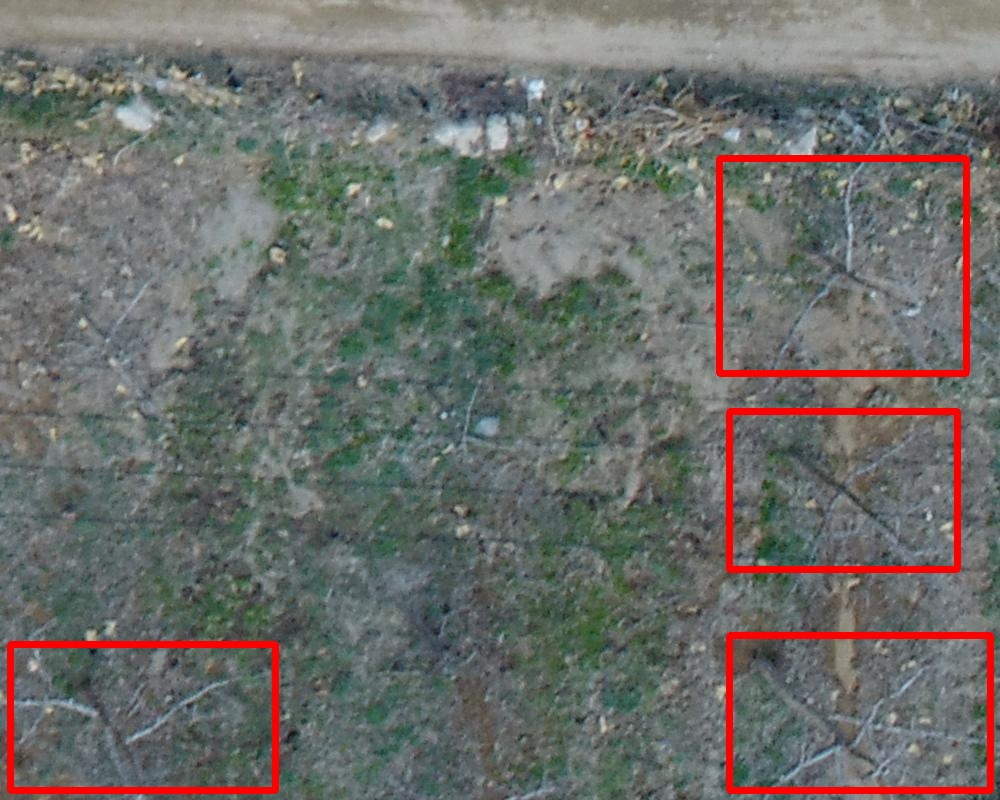apple: (719, 158, 966, 373), (729, 635, 990, 790), (10, 644, 275, 790), (729, 411, 957, 569)
